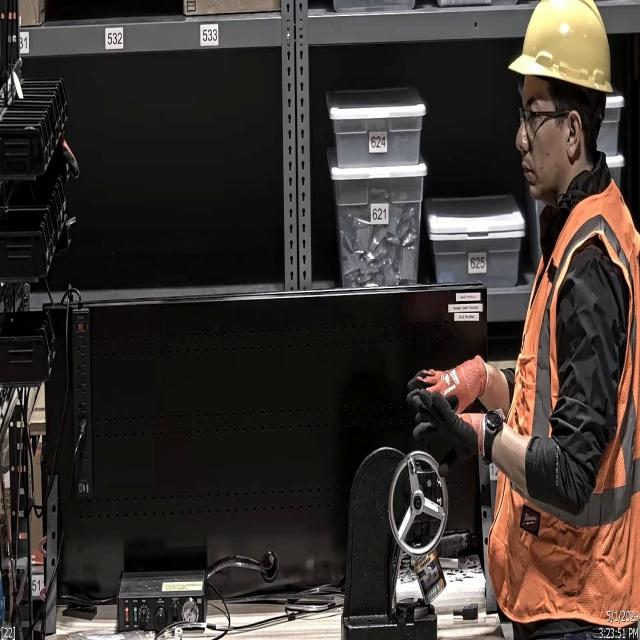construction-gloves: (408, 384, 492, 472), (402, 352, 488, 419)
